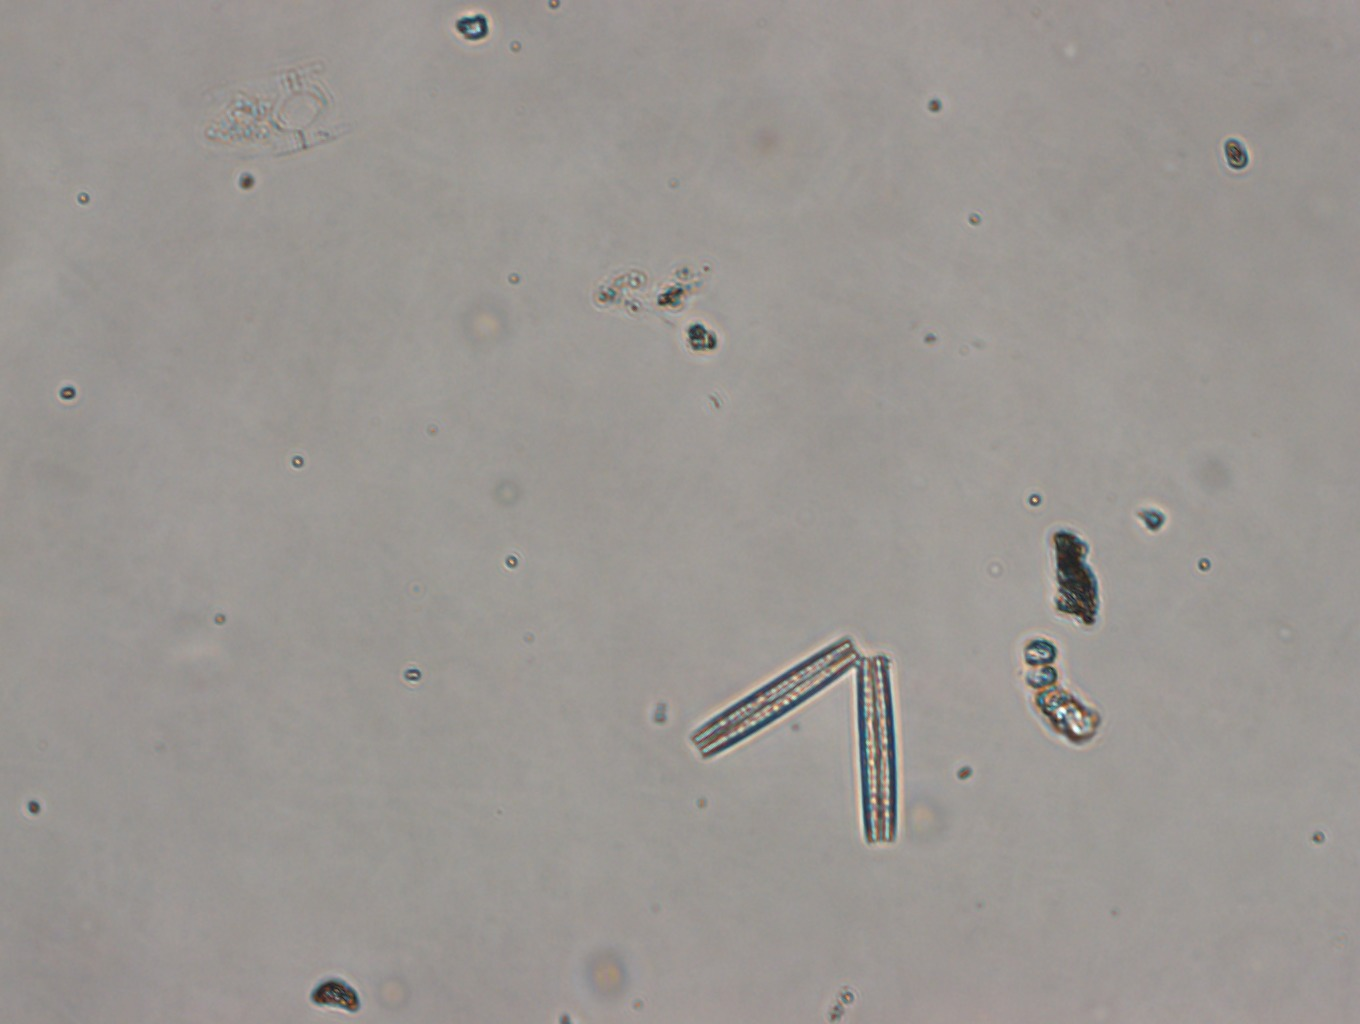thalassionema nitzschioides: (679, 632, 903, 853)
